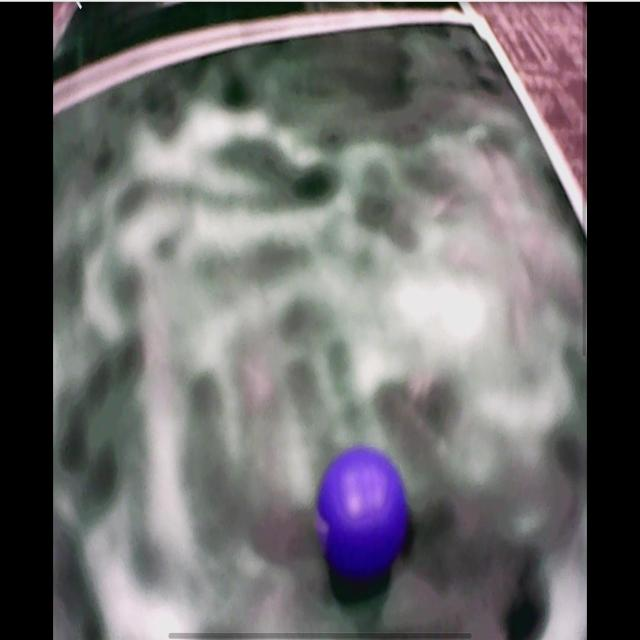ball: (320, 448, 408, 580)
